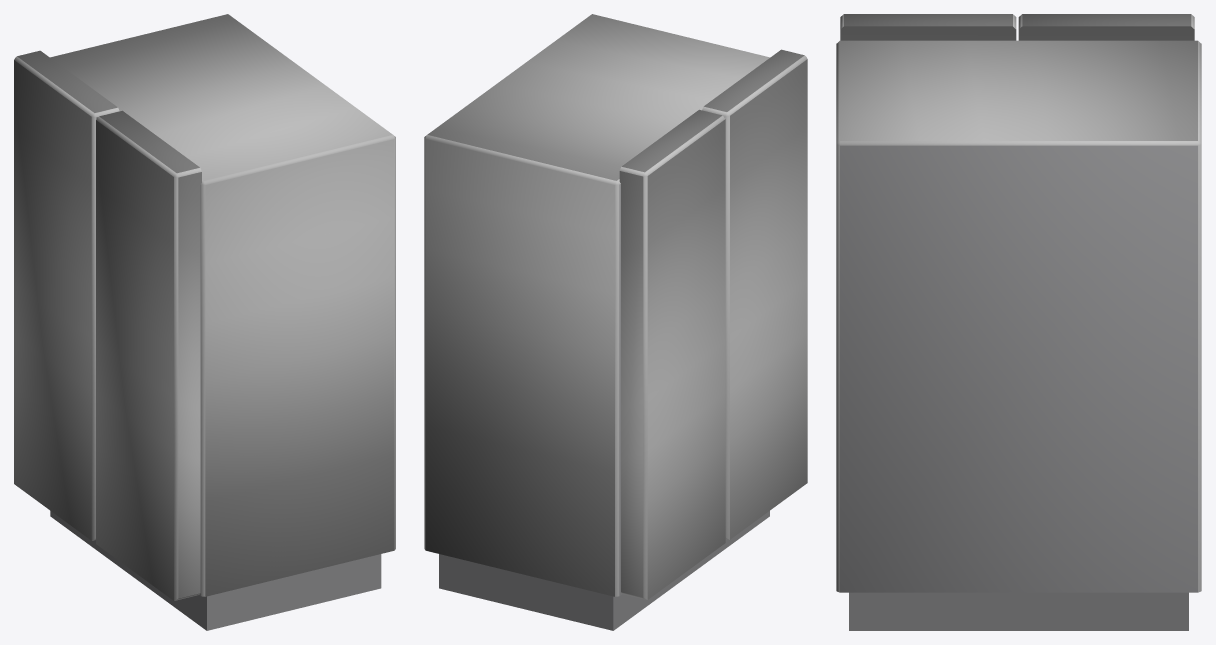
File: fridge.fbx
The picture shows the model from 3 angles, left to right: view 1: azimuth 30°, elevation 25°; view 2: azimuth 150°, elevation 25°; view 3: azimuth 270°, elevation 25°; orthographic projection. The views are drawn at different scales.
Visible parts, largest first — view 1: fridge; view 2: fridge; view 3: fridge.
Boxes of the visible parts, <box> form: fridge: <box>14,14,395,630</box>; fridge: <box>424,14,807,630</box>; fridge: <box>836,14,1201,630</box>.
Size of the model in its own units: 1.45 by 2.95 by 1.92.
